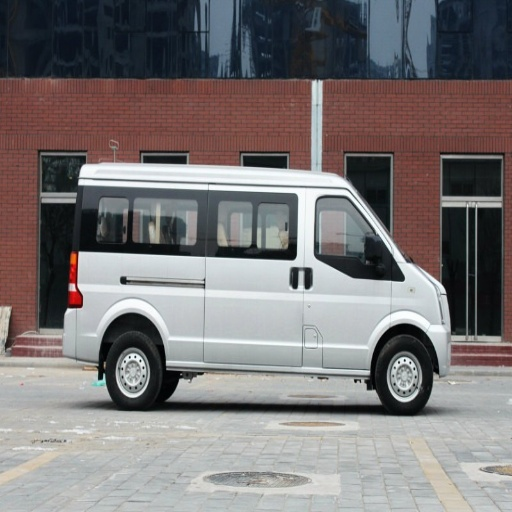trunk: (65, 255, 277, 365)
